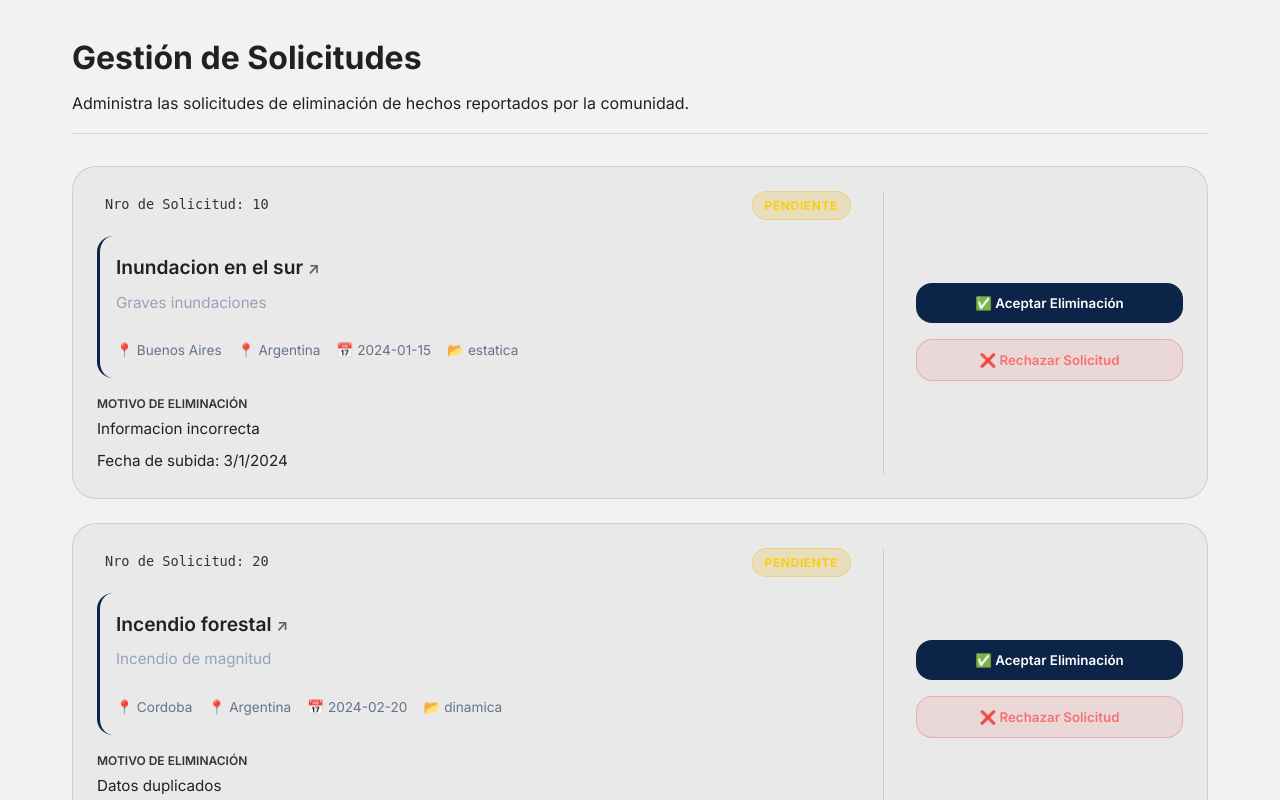
Test case: GestionSolicitudes › accion rechazar › elimina la card tras rechazar
Click the button "❌ Rechazar Solicitud" in the row of "estatica" at coordinates (1050, 360), box [916,339,1183,381]
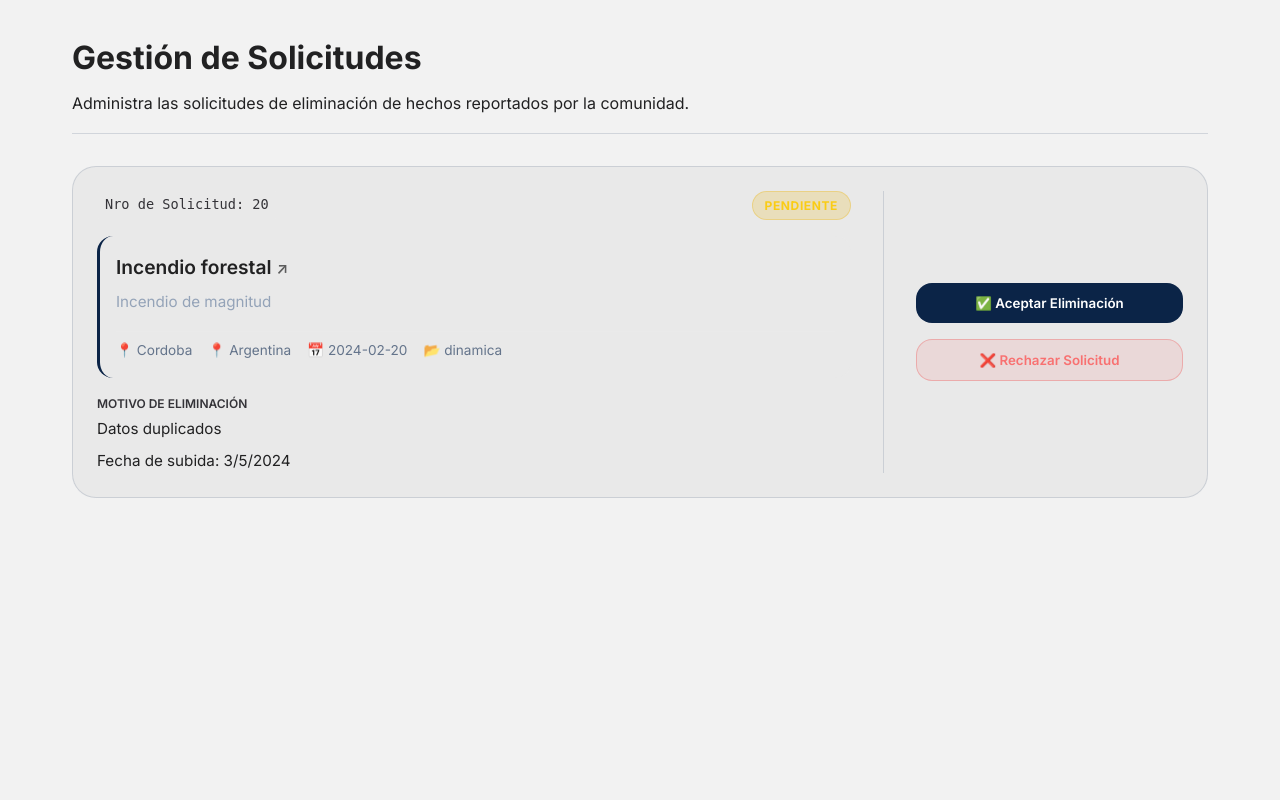
Expected: the text "Inundacion en el sur" is gone
